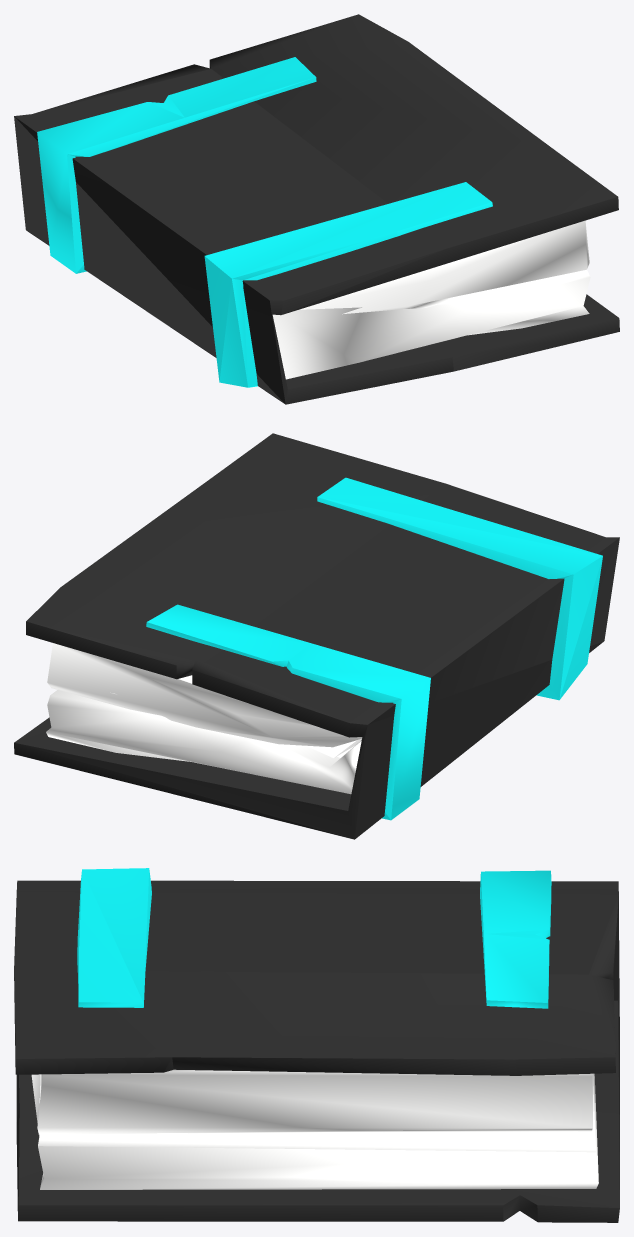
The model's file is CyberPunkGuestBookClosed.006.glb.
3 views of the same model, one above another, from view 1: azimuth 30°, elevation 25°; view 2: azimuth 150°, elevation 25°; view 3: azimuth 270°, elevation 25° (orthographic). The views are drawn at different scales.
Parts seen in each view (by area): view 1: CyberPunkGuestBookClosed.006; view 2: CyberPunkGuestBookClosed.006; view 3: CyberPunkGuestBookClosed.006.
Part boxes in pixels (left/top/right/bottom): CyberPunkGuestBookClosed.006: left=14, top=14, right=619, bottom=404; CyberPunkGuestBookClosed.006: left=14, top=433, right=619, bottom=839; CyberPunkGuestBookClosed.006: left=14, top=868, right=619, bottom=1222.
Size of what is drawn, in the model's own units: 0.2654 by 0.1053 by 0.3243.
Materials: 2 (2 with a texture image).
